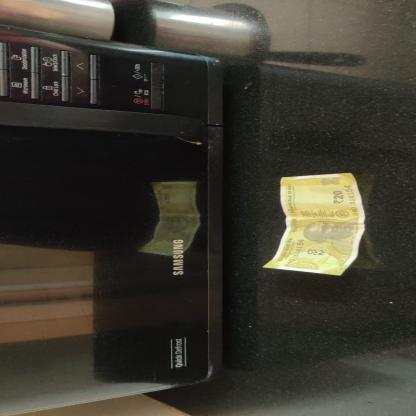New20Front: (251, 172, 372, 277)
